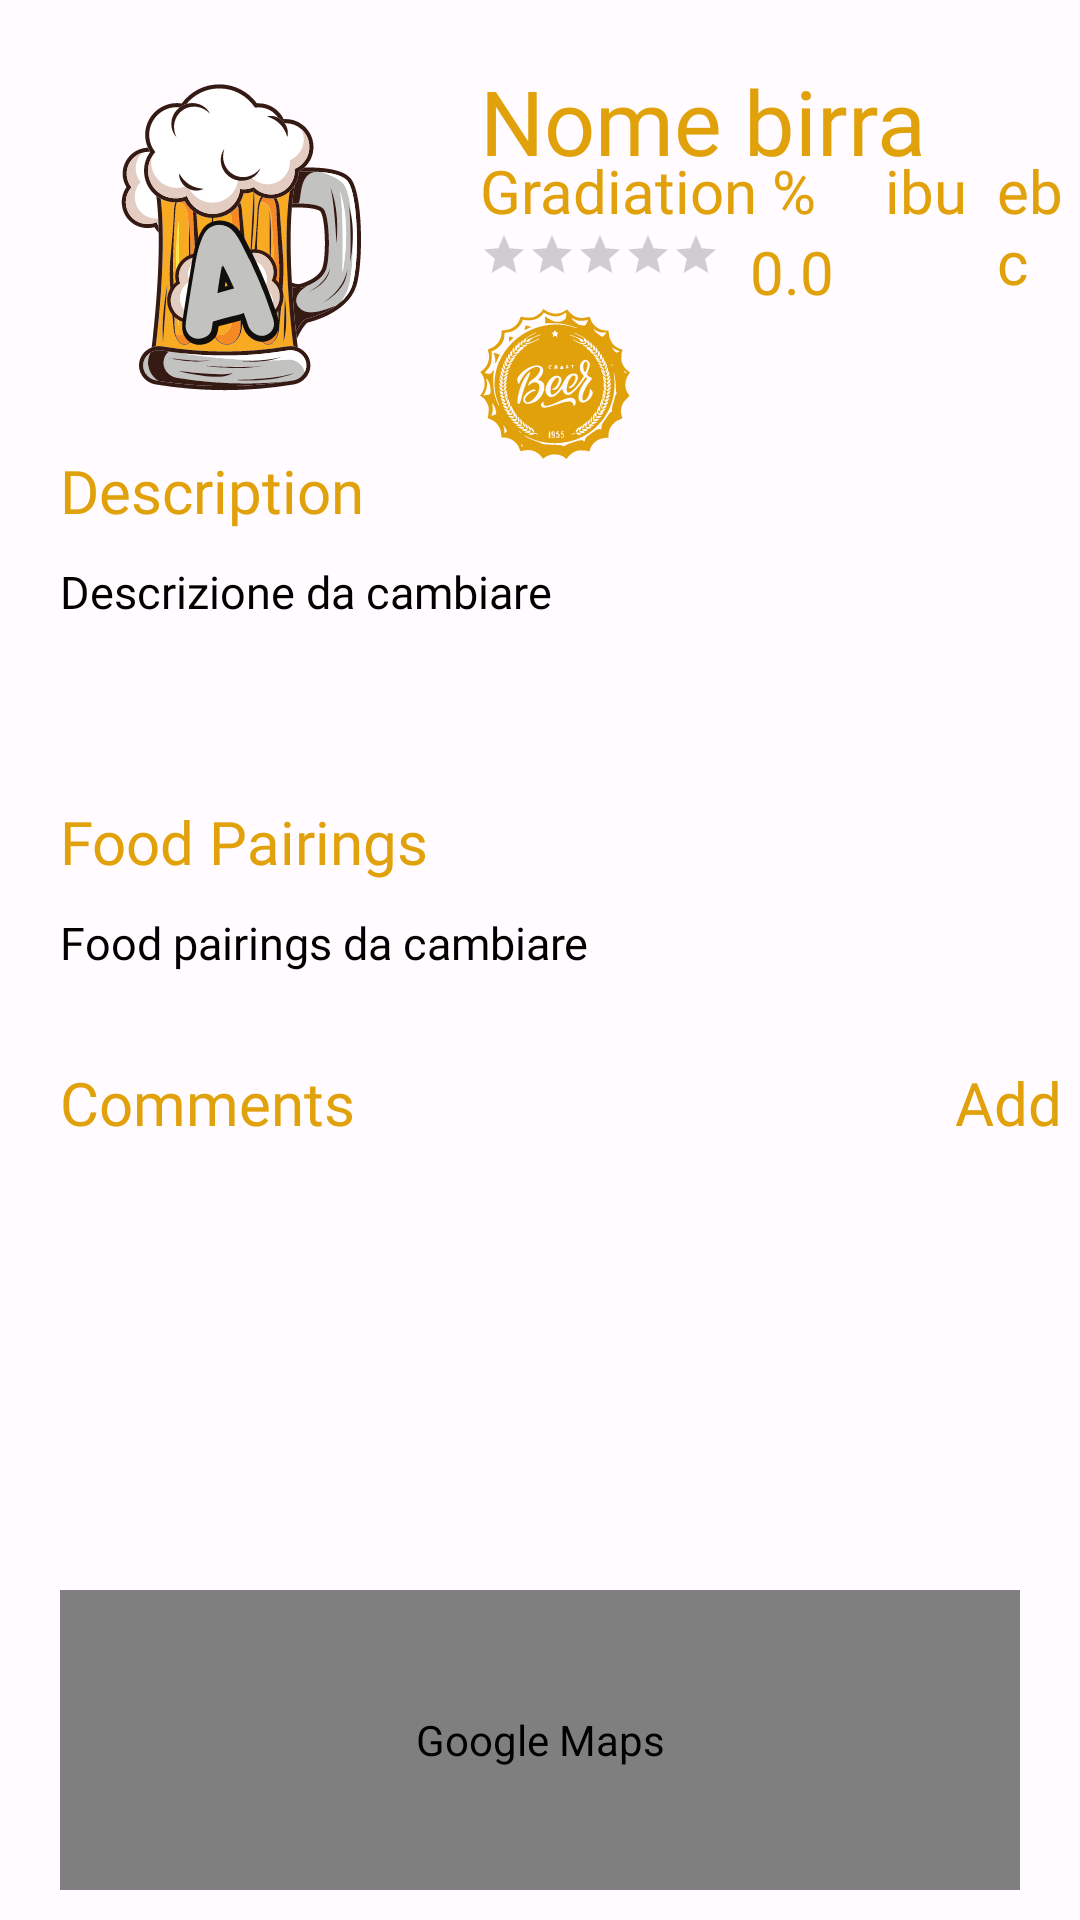

Screen size 1080x1920. Icon name, then its box in pixels as (x1, y1, x2, y2):
beertappo: (480, 309, 630, 459)
